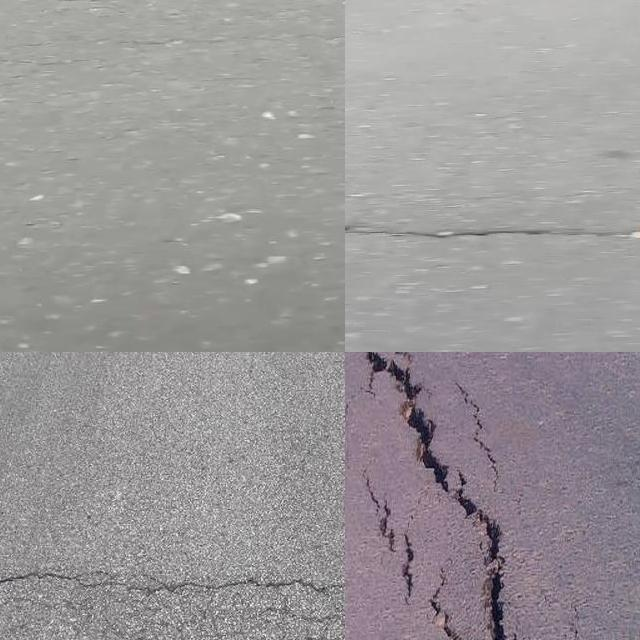Melintang: (0, 558, 345, 613), (345, 213, 640, 253)
Memanjang: (350, 352, 544, 640), (345, 458, 475, 640)
